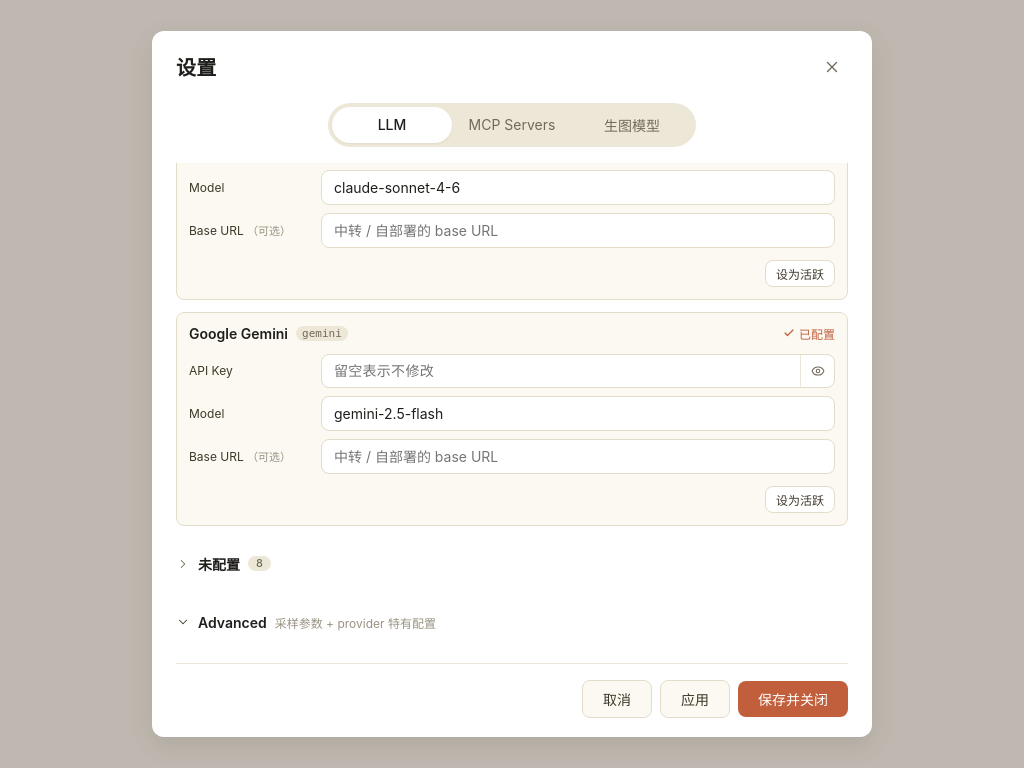
Test: SettingsModal provider switch (active provider advanced sub-block) › 展开 Advanced 折叠后:active=zhipu(openai-compatible)→ 只有 common 子区,无专有
(page scrolled)
Click the button with class "advanced-toggle" at (232, 622), box [176,614,848,631]
(page scrolled)
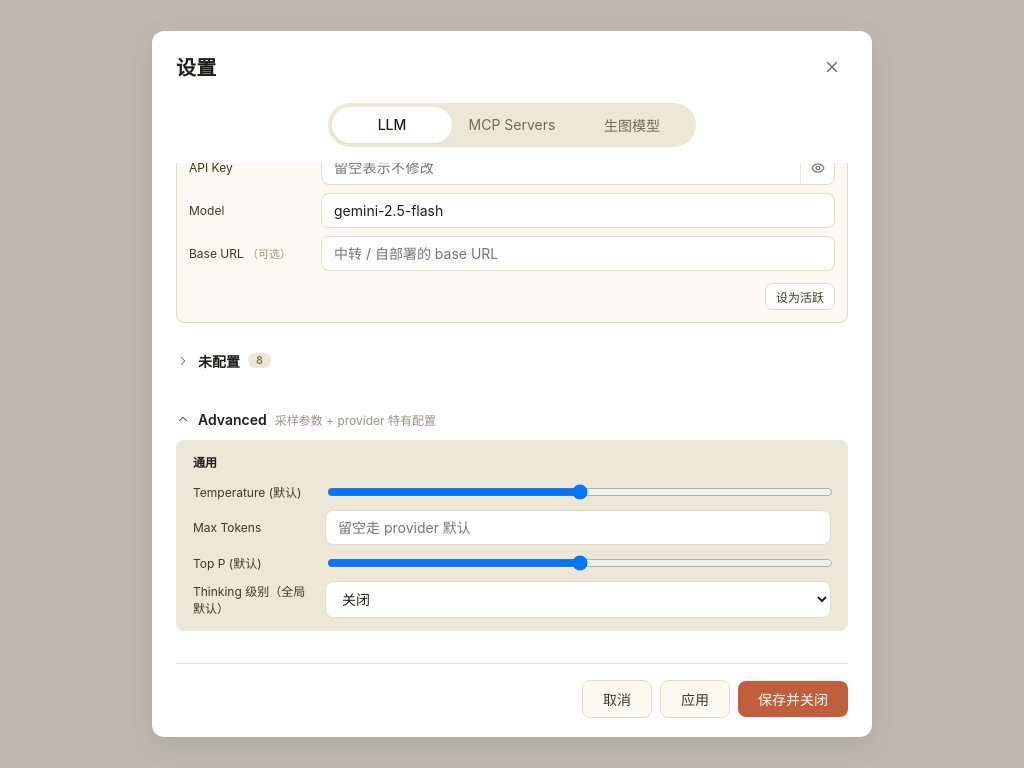
Expected: the element with test id "advanced-panel" is shown, [176,440,848,631]
Expected: the slider with test id "adv-temperature" is shown, [327,484,833,500]
Expected: the number field with test id "adv-max-tokens" is shown, [325,510,831,545]
